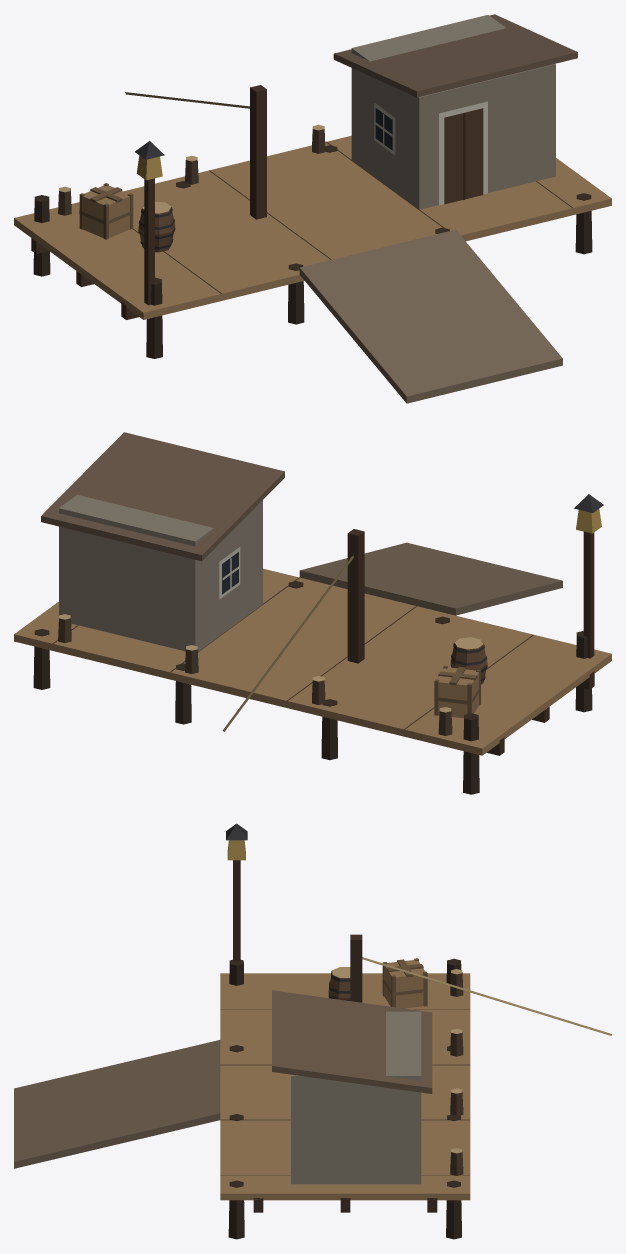
The model's file is landing.glb.
3 renders of one model, top to bottom at view 1: azimuth 30°, elevation 25°; view 2: azimuth 150°, elevation 25°; view 3: azimuth 270°, elevation 25°, orthographic. The views are drawn at different scales.
Visible parts, largest first — view 1: landing; view 2: landing; view 3: landing.
Part boxes in pixels (box(x1,y1,x2,y2)): landing: box(14, 14, 611, 403); landing: box(14, 432, 611, 794); landing: box(14, 823, 611, 1239).
Size of the model in its own units: 9.6 by 4.22 by 11.01.
